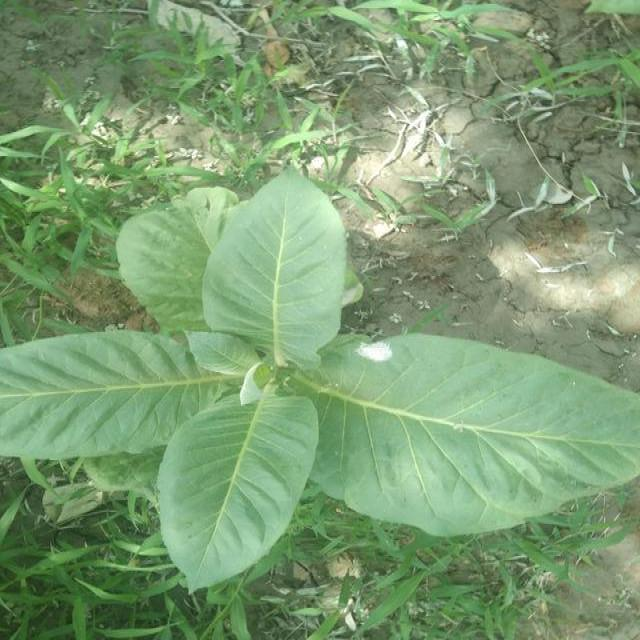crop: (4, 159, 628, 603)
